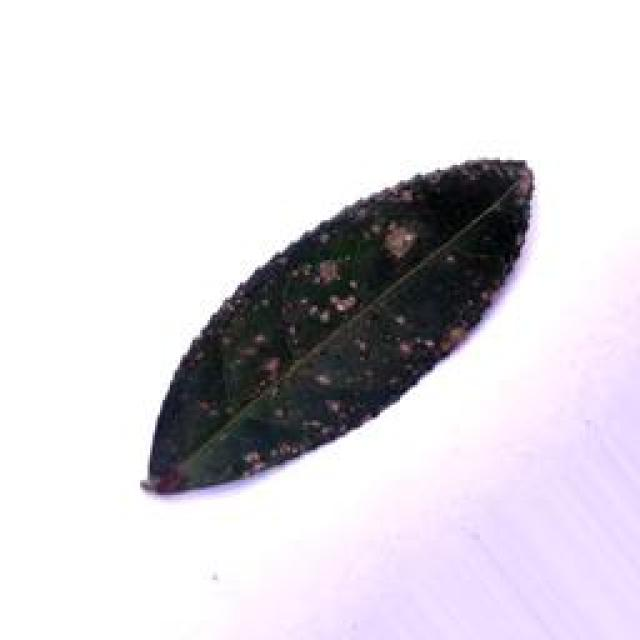Algal Leaf Spot: (131, 151, 538, 496)
